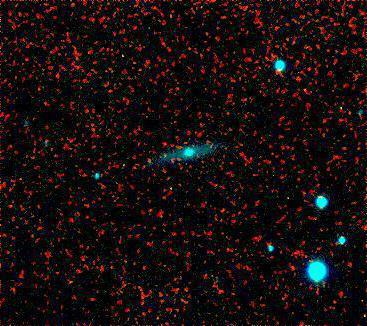star: (151, 144, 181, 174)
